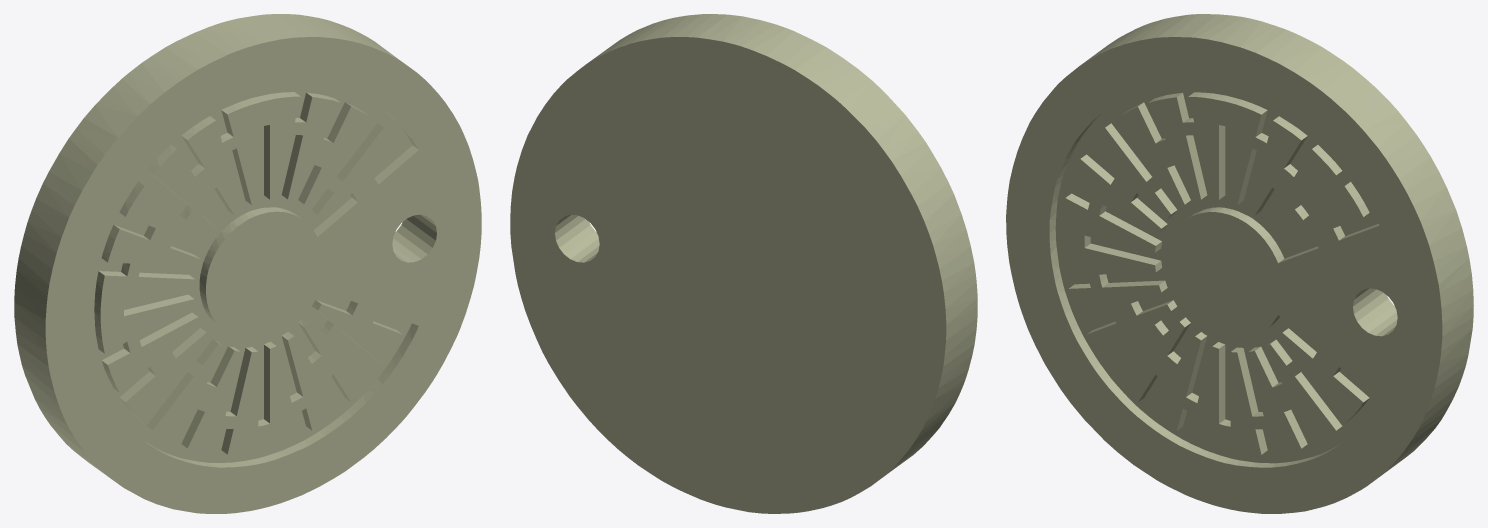
Rendered from tinker.obj.
3 renders of one model, left to right at view 1: azimuth 30°, elevation 25°; view 2: azimuth 150°, elevation 25°; view 3: azimuth 330°, elevation 25°, orthographic.
Parts seen in each view (by area): view 1: obj_0; view 2: obj_0; view 3: obj_0.
Part boxes in pixels (x1=…): obj_0: x1=14, y1=14, x2=481, y2=513; obj_0: x1=510, y1=14, x2=977, y2=513; obj_0: x1=1006, y1=14, x2=1473, y2=513.
Bounding box in the file's own units: 39 × 39.74 × 4.87.
